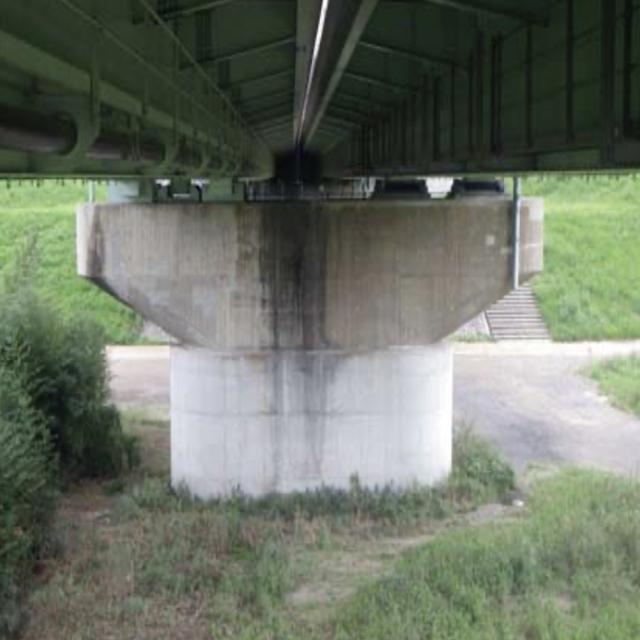leakage: (240, 192, 339, 408)
